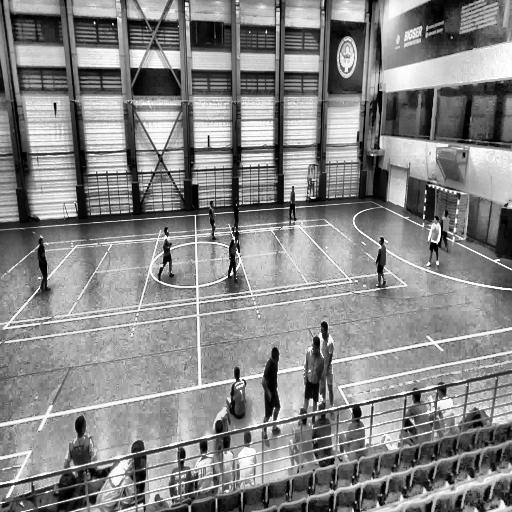player: (62, 413, 99, 472), (302, 334, 326, 416), (262, 346, 282, 440), (319, 322, 337, 422), (401, 387, 432, 441), (288, 407, 313, 471), (338, 404, 365, 460), (213, 407, 231, 490), (433, 382, 460, 437), (168, 447, 193, 502), (194, 437, 214, 495), (314, 404, 333, 464), (216, 434, 234, 492), (238, 429, 256, 486), (157, 226, 175, 281), (228, 366, 246, 421), (38, 236, 52, 292), (426, 216, 441, 268), (374, 236, 387, 288), (228, 228, 240, 282), (438, 208, 450, 257), (230, 194, 242, 234), (208, 200, 216, 241), (288, 186, 296, 220)
